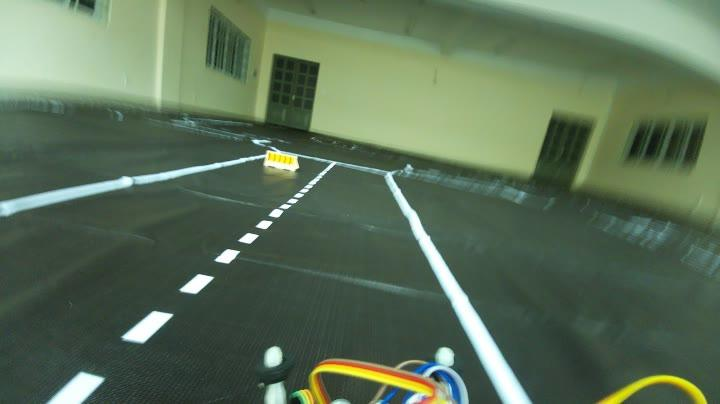roadblock: (260, 148, 301, 172)
